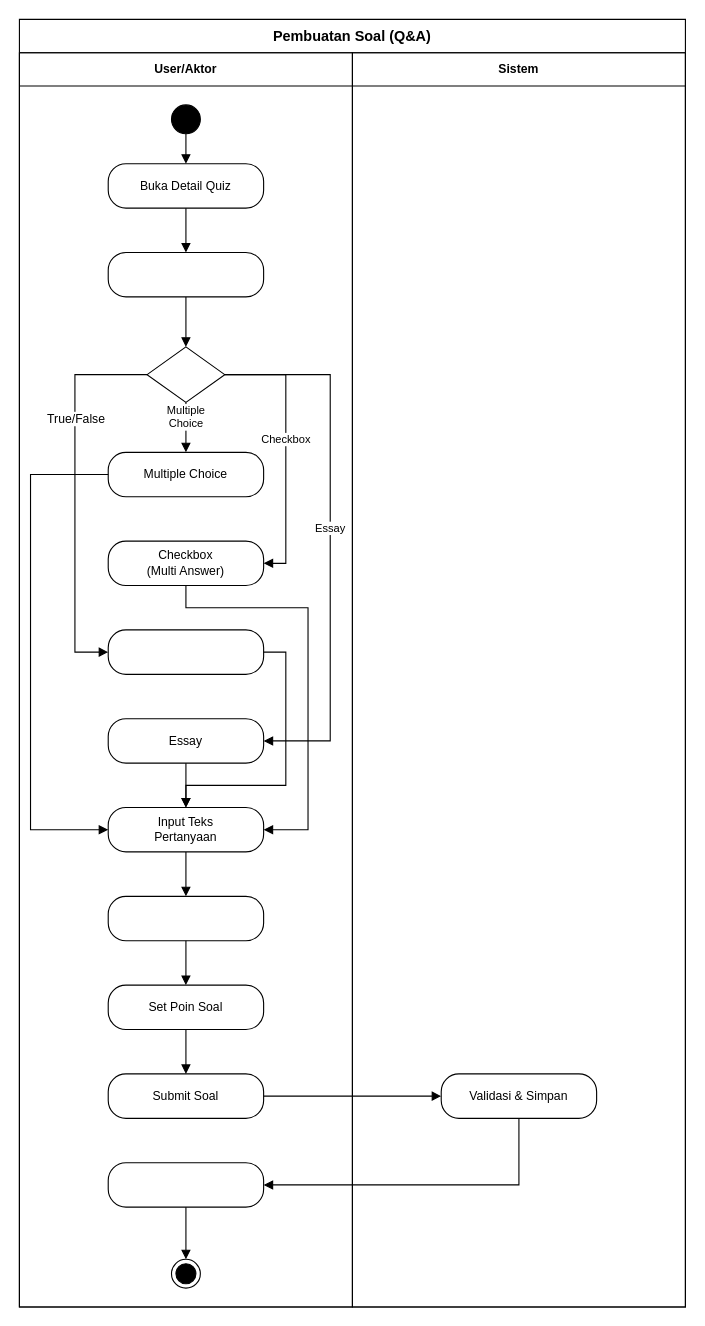
Some shapes in this 705 by 1326 pixel diagram are drawn without their labels. The shapes that lost their labels are listed below. From the top down, each one's box as (x1, y1, x2, y2) in pixels, then its label:
(107, 251, 264, 297): Pilih Tambah Soal
(146, 346, 225, 402): Tipe Soal?
(107, 629, 264, 674): True / False
(107, 895, 264, 941): Input Pilihan Jawaban & Kunci (jika ada)
(107, 1162, 264, 1207): Render Soal Baru di Daftar
